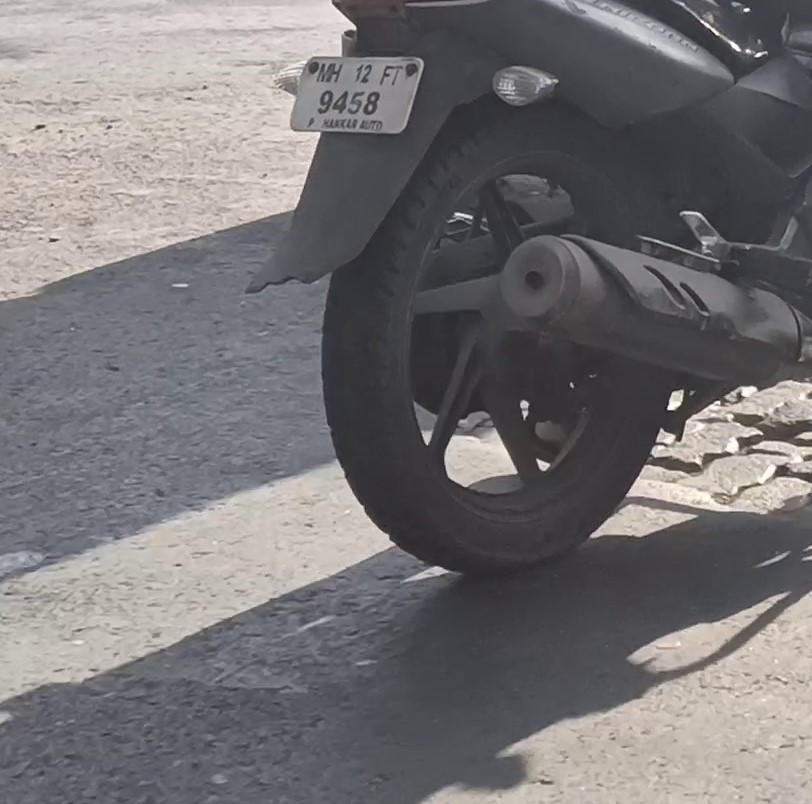MH12FT9458: (289, 58, 423, 132)
